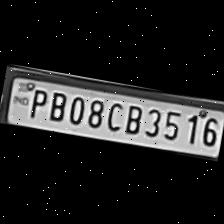0: (64, 91, 88, 126)
1: (179, 110, 200, 144)
3: (142, 104, 162, 138)
5: (158, 105, 182, 141)
6: (196, 113, 220, 148)
8: (83, 94, 106, 130)
B: (120, 100, 145, 136), (44, 88, 68, 122)
C: (102, 96, 126, 132)
P: (23, 84, 48, 120)
